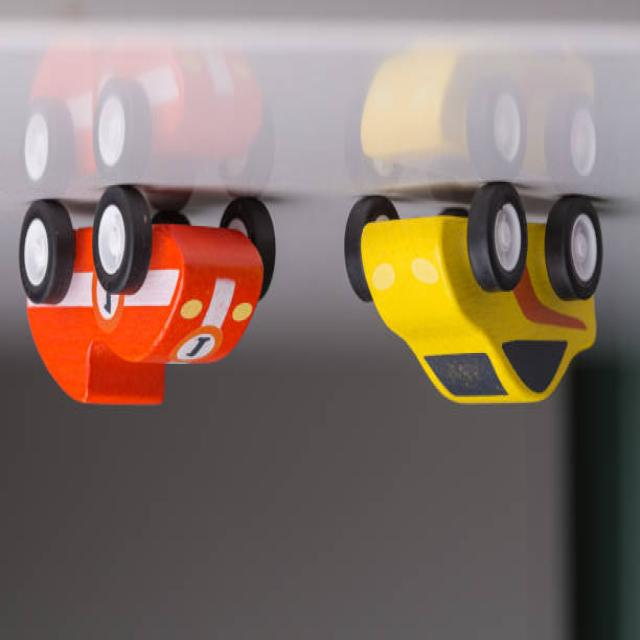Car: (343, 182, 602, 406), (18, 185, 276, 408)
